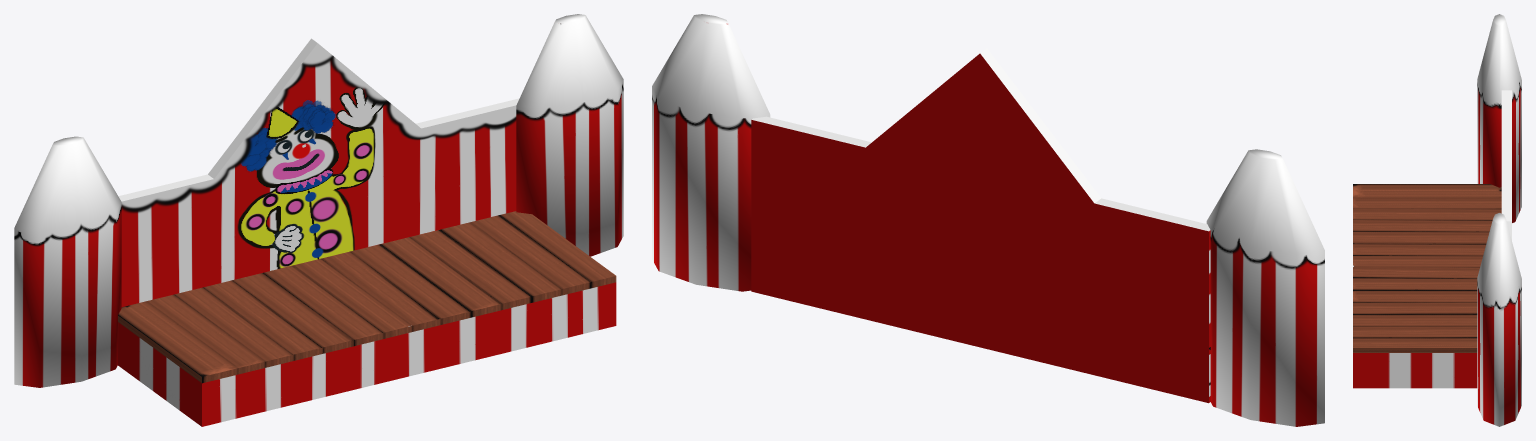
Rendered from Stage.glb.
3 renders of one model, left to right at view 1: azimuth 30°, elevation 25°; view 2: azimuth 150°, elevation 25°; view 3: azimuth 270°, elevation 25°, orthographic. The views are drawn at different scales.
Visible parts, largest first — view 1: Cube.002; view 2: Cube.002; view 3: Cube.002.
Boxes of the visible parts, x1,y1,x2,y2 form: Cube.002: [14, 14, 623, 426]; Cube.002: [652, 14, 1324, 426]; Cube.002: [1353, 14, 1521, 426].
Size of the model in its own units: 25.52 by 10.66 by 7.55.
1 material, 1 textured.
